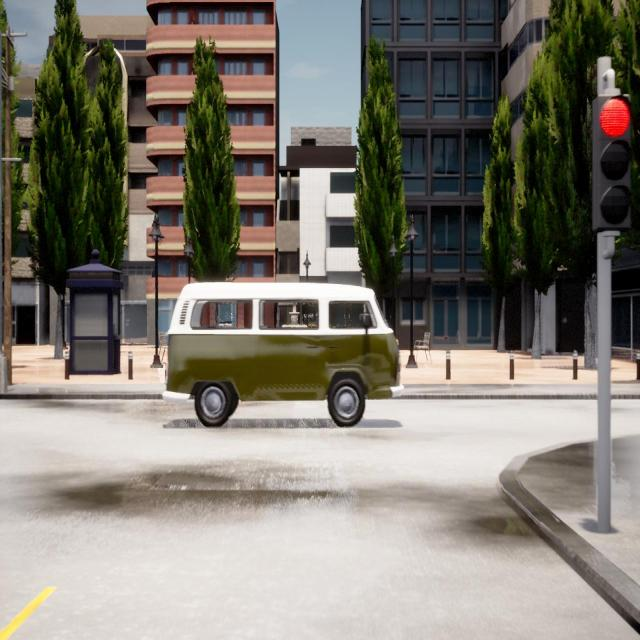Vehicle: (163, 282, 401, 426)
traffic_light: (594, 95, 632, 227)
